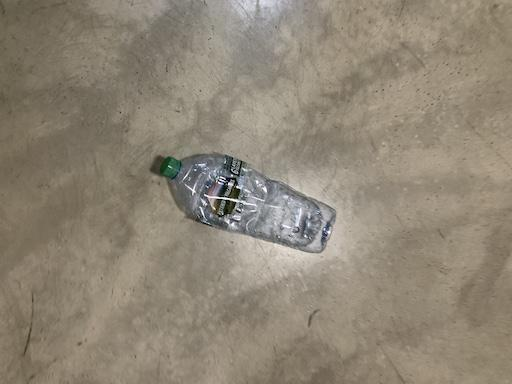bottle-plastic: (158, 151, 337, 253)
